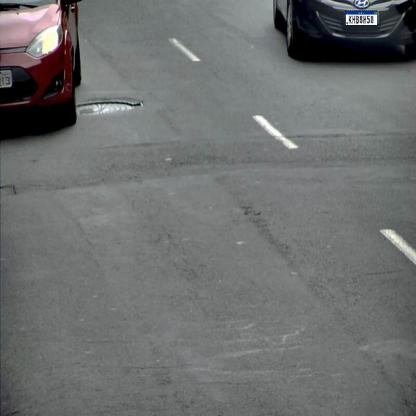PlacaM: (346, 10, 378, 26)
